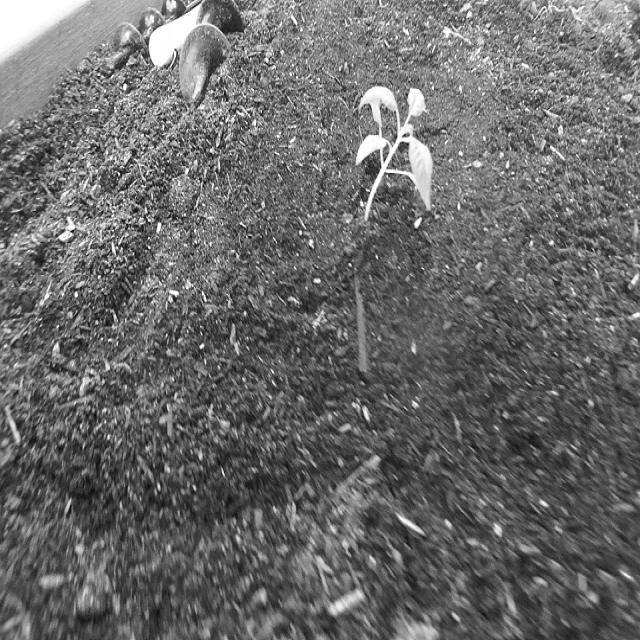Healthy: (351, 80, 438, 238)
